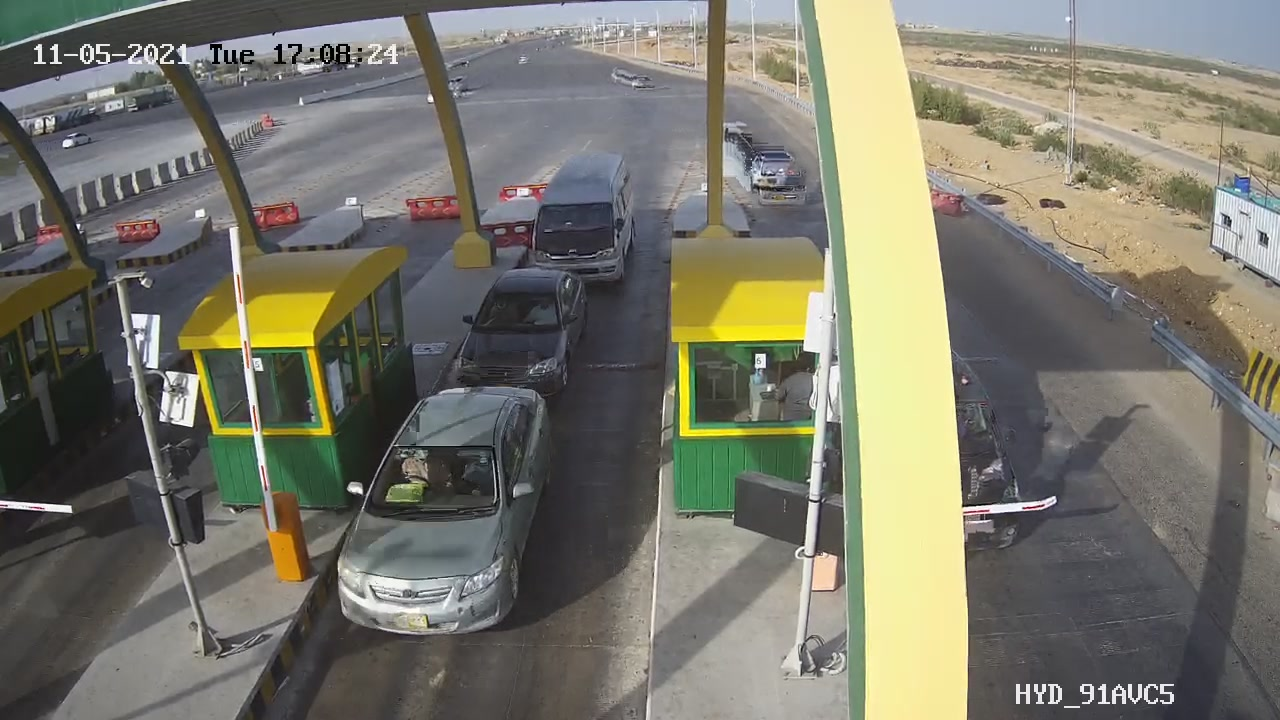F1: (321, 365, 566, 649), (433, 260, 614, 412)
